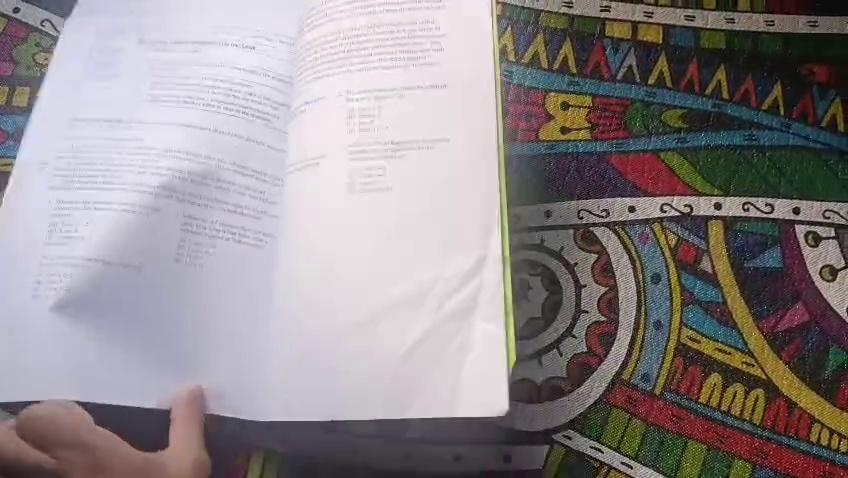Kertas: (76, 0, 493, 380)
